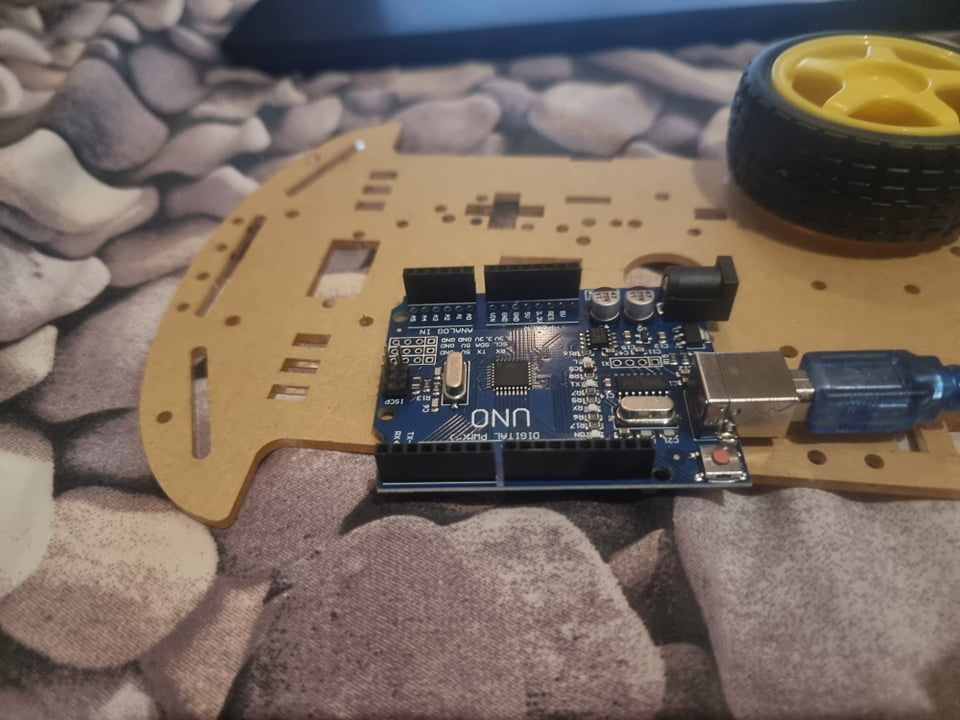UNO R3: (372, 251, 802, 488)
